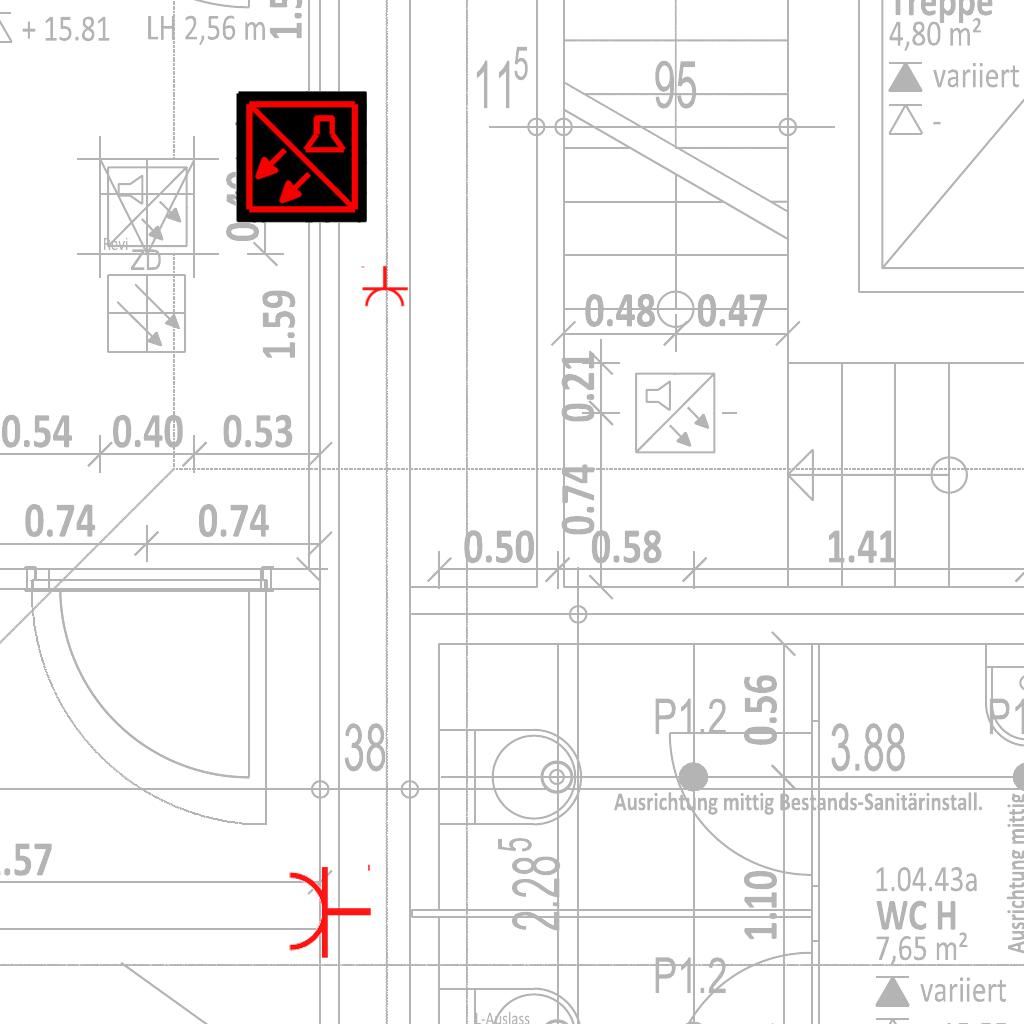OKW_Multisensormelder_(Kombination_optischer_Rauch-Kahlenmonoxid_Waerme-Melder): (235, 91, 367, 223)
Schukosteckdose_einfach: (286, 860, 373, 960), (359, 265, 409, 308)
